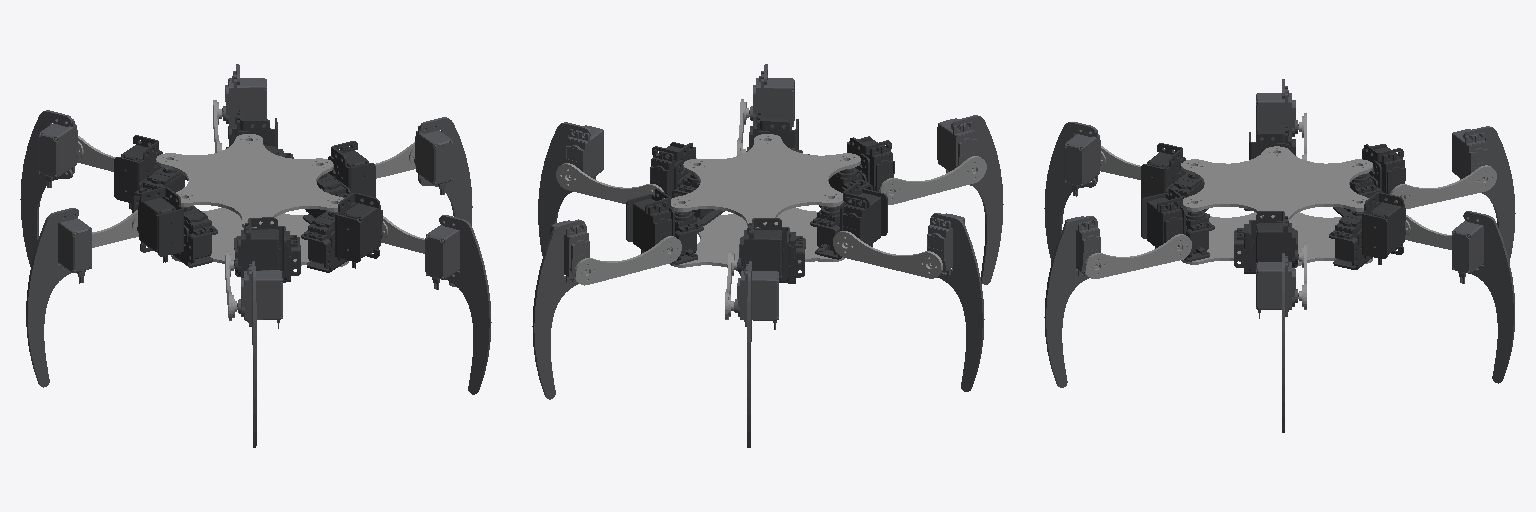
robot.urdf — spider:
<?xml version="1.0" encoding="utf-8"?>
<!-- This URDF was automatically created by SolidWorks to URDF Exporter! Originally created by [author] ([email redacted]) 
     Commit Version: 1.5.1-0-g916b5db  Build Version: 1.5.7152.31018
     For more information, please see http://wiki.ros.org/sw_urdf_exporter -->
<robot
  name="spider">
  <link
    name="main_body">
    <inertial>
      <origin
        xyz="1.1976E-18 2.9807E-18 -0.024667"
        rpy="0 0 0" />
      <mass
        value="0.27159" />
      <inertia
        ixx="0.00047029"
        ixy="8.691E-20"
        ixz="9.2467E-22"
        iyy="0.00030006"
        iyz="2.8702E-20"
        izz="0.00076993" />
    </inertial>
    <visual>
      <origin
        xyz="0 0 0"
        rpy="0 0 0" />
      <geometry>
        <mesh
          filename="package://spider/meshes/main_body.STL" />
      </geometry>
      <material
        name="">
        <color
          rgba="0.5898 0.59177 0.59294 1" />
      </material>
    </visual>
    <collision>
      <origin
        xyz="0 0 0"
        rpy="0 0 0" />
      <geometry>
        <mesh
          filename="package://spider/meshes/main_body.STL" />
      </geometry>
    </collision>
  </link>
  <link
    name="L1_coxa">
    <inertial>
      <origin
        xyz="-0.01487 -0.0067728 -0.019757"
        rpy="0 0 0" />
      <mass
        value="0.14547" />
      <inertia
        ixx="4.1777E-05"
        ixy="-5.3557E-07"
        ixz="5.3584E-07"
        iyy="2.672E-05"
        iyz="-4.9151E-13"
        izz="2.672E-05" />
    </inertial>
    <visual>
      <origin
        xyz="0 0 0"
        rpy="0 0 0" />
      <geometry>
        <mesh
          filename="package://spider/meshes/L1_coxa.STL" />
      </geometry>
      <material
        name="">
        <color
          rgba="0.279216 0.281961 0.293333 1" />
      </material>
    </visual>
    <collision>
      <origin
        xyz="0 0 0"
        rpy="0 0 0" />
      <geometry>
        <mesh
          filename="package://spider/meshes/L1_coxa.STL" />
      </geometry>
    </collision>
  </link>
  <joint
    name="L1_joint1"
    type="revolute">
    <origin
      xyz="-0.04 0.0750000000000001 -0.002"
      rpy="0 0 -1.08083900054117" />
    <parent
      link="main_body" />
    <child
      link="L1_coxa" />
    <axis
      xyz="0 0 -1" />
    <limit
      lower="0"
      upper="0"
      effort="0"
      velocity="0" />
  </joint>
  <link
    name="L1_femur">
    <inertial>
      <origin
        xyz="0.0020723 -0.0425 -0.0029625"
        rpy="0 0 0" />
      <mass
        value="0.018954" />
      <inertia
        ixx="1.6508E-05"
        ixy="-4.0626E-21"
        ixz="-7.4283E-23"
        iyy="6.9019E-07"
        iyz="3.5999E-21"
        izz="1.7168E-05" />
    </inertial>
    <visual>
      <origin
        xyz="0 0 0"
        rpy="0 0 0" />
      <geometry>
        <mesh
          filename="package://spider/meshes/L1_femur.STL" />
      </geometry>
      <material
        name="">
        <color
          rgba="0.589804 0.592157 0.592941 1" />
      </material>
    </visual>
    <collision>
      <origin
        xyz="0 0 0"
        rpy="0 0 0" />
      <geometry>
        <mesh
          filename="package://spider/meshes/L1_femur.STL" />
      </geometry>
    </collision>
  </link>
  <joint
    name="L1_joint2"
    type="revolute">
    <origin
      xyz="-0.0297399999999999 0.0226716679866615 -0.0231716679866614"
      rpy="1.5707963267949 1.5707963267949 0" />
    <parent
      link="L1_coxa" />
    <child
      link="L1_femur" />
    <axis
      xyz="0 0 1" />
    <limit
      lower="0"
      upper="0"
      effort="0"
      velocity="0" />
  </joint>
  <link
    name="L1_tibia">
    <inertial>
      <origin
        xyz="0.0033475 0.0079586 -0.02165"
        rpy="0 0 0" />
      <mass
        value="0.083453" />
      <inertia
        ixx="1.127E-05"
        ixy="-6.8552E-06"
        ixz="-1.5501E-07"
        iyy="6.3949E-05"
        iyz="-1.3189E-10"
        izz="6.307E-05" />
    </inertial>
    <visual>
      <origin
        xyz="0 0 0"
        rpy="0 0 0" />
      <geometry>
        <mesh
          filename="package://spider/meshes/L1_tibia.STL" />
      </geometry>
      <material
        name="">
        <color
          rgba="0.379216 0.381961 0.393333 1" />
      </material>
    </visual>
    <collision>
      <origin
        xyz="0 0 0"
        rpy="0 0 0" />
      <geometry>
        <mesh
          filename="package://spider/meshes/L1_tibia.STL" />
      </geometry>
    </collision>
  </link>
  <joint
    name="L1_joint3"
    type="revolute">
    <origin
      xyz="0 -0.085 0"
      rpy="3.14159265358979 0 0" />
    <parent
      link="L1_femur" />
    <child
      link="L1_tibia" />
    <axis
      xyz="0 0 -1" />
    <limit
      lower="0"
      upper="0"
      effort="0"
      velocity="0" />
  </joint>
  <link
    name="L2_coxa">
    <inertial>
      <origin
        xyz="-0.01487 -0.0067728 -0.019757"
        rpy="0 0 0" />
      <mass
        value="0.14547" />
      <inertia
        ixx="4.1777E-05"
        ixy="-5.3557E-07"
        ixz="5.3584E-07"
        iyy="2.672E-05"
        iyz="1.0353E-20"
        izz="2.672E-05" />
    </inertial>
    <visual>
      <origin
        xyz="0 0 0"
        rpy="0 0 0" />
      <geometry>
        <mesh
          filename="package://spider/meshes/L2_coxa.STL" />
      </geometry>
      <material
        name="">
        <color
          rgba="0.279216 0.281961 0.293333 1" />
      </material>
    </visual>
    <collision>
      <origin
        xyz="0 0 0"
        rpy="0 0 0" />
      <geometry>
        <mesh
          filename="package://spider/meshes/L2_coxa.STL" />
      </geometry>
    </collision>
  </link>
  <joint
    name="L2_joint1"
    type="revolute">
    <origin
      xyz="-0.0678388218141501 0 -0.002"
      rpy="0 0 0" />
    <parent
      link="main_body" />
    <child
      link="L2_coxa" />
    <axis
      xyz="0 0 -1" />
    <limit
      lower="0"
      upper="0"
      effort="0"
      velocity="0" />
  </joint>
  <link
    name="L2_femur">
    <inertial>
      <origin
        xyz="0.0020723 -0.0425 -0.0029625"
        rpy="0 0 0" />
      <mass
        value="0.018954" />
      <inertia
        ixx="1.6508E-05"
        ixy="-2.0583E-21"
        ixz="5.7808E-23"
        iyy="6.9019E-07"
        iyz="-4.072E-24"
        izz="1.7168E-05" />
    </inertial>
    <visual>
      <origin
        xyz="0 0 0"
        rpy="0 0 0" />
      <geometry>
        <mesh
          filename="package://spider/meshes/L2_femur.STL" />
      </geometry>
      <material
        name="">
        <color
          rgba="0.589804 0.592157 0.592941 1" />
      </material>
    </visual>
    <collision>
      <origin
        xyz="0 0 0"
        rpy="0 0 0" />
      <geometry>
        <mesh
          filename="package://spider/meshes/L2_femur.STL" />
      </geometry>
    </collision>
  </link>
  <joint
    name="L2_joint2"
    type="revolute">
    <origin
      xyz="-0.02974 0.0226716679866614 -0.0231716679866613"
      rpy="1.5707963267949 1.5707963267949 0" />
    <parent
      link="L2_coxa" />
    <child
      link="L2_femur" />
    <axis
      xyz="0 0 1" />
    <limit
      lower="0"
      upper="0"
      effort="0"
      velocity="0" />
  </joint>
  <link
    name="L2_tibia">
    <inertial>
      <origin
        xyz="0.0033475 0.0079586 -0.02165"
        rpy="0 0 0" />
      <mass
        value="0.083453" />
      <inertia
        ixx="1.127E-05"
        ixy="-6.8552E-06"
        ixz="-1.5501E-07"
        iyy="6.3949E-05"
        iyz="-1.3191E-10"
        izz="6.307E-05" />
    </inertial>
    <visual>
      <origin
        xyz="0 0 0"
        rpy="0 0 0" />
      <geometry>
        <mesh
          filename="package://spider/meshes/L2_tibia.STL" />
      </geometry>
      <material
        name="">
        <color
          rgba="0.379216 0.381961 0.393333 1" />
      </material>
    </visual>
    <collision>
      <origin
        xyz="0 0 0"
        rpy="0 0 0" />
      <geometry>
        <mesh
          filename="package://spider/meshes/L2_tibia.STL" />
      </geometry>
    </collision>
  </link>
  <joint
    name="L2_joint3"
    type="revolute">
    <origin
      xyz="0 -0.085 0"
      rpy="3.14159265358979 0 0" />
    <parent
      link="L2_femur" />
    <child
      link="L2_tibia" />
    <axis
      xyz="0 0 -1" />
    <limit
      lower="0"
      upper="0"
      effort="0"
      velocity="0" />
  </joint>
  <link
    name="L3_coxa">
    <inertial>
      <origin
        xyz="-0.01487 -0.0067728 -0.019757"
        rpy="0 0 0" />
      <mass
        value="0.14547" />
      <inertia
        ixx="4.1777E-05"
        ixy="-5.3557E-07"
        ixz="5.3584E-07"
        iyy="2.672E-05"
        iyz="-4.5427E-13"
        izz="2.672E-05" />
    </inertial>
    <visual>
      <origin
        xyz="0 0 0"
        rpy="0 0 0" />
      <geometry>
        <mesh
          filename="package://spider/meshes/L3_coxa.STL" />
      </geometry>
      <material
        name="">
        <color
          rgba="0.279216 0.281961 0.293333 1" />
      </material>
    </visual>
    <collision>
      <origin
        xyz="0 0 0"
        rpy="0 0 0" />
      <geometry>
        <mesh
          filename="package://spider/meshes/L3_coxa.STL" />
      </geometry>
    </collision>
  </link>
  <joint
    name="L3_joint1"
    type="revolute">
    <origin
      xyz="-0.04 -0.075 -0.00199999999999999"
      rpy="0 0 1.08083900054117" />
    <parent
      link="main_body" />
    <child
      link="L3_coxa" />
    <axis
      xyz="0 0 -1" />
    <limit
      lower="0"
      upper="0"
      effort="0"
      velocity="0" />
  </joint>
  <link
    name="L3_femur">
    <inertial>
      <origin
        xyz="0.0020723 -0.0425 -0.0029625"
        rpy="0 0 0" />
      <mass
        value="0.018954" />
      <inertia
        ixx="1.6508E-05"
        ixy="-3.6245E-21"
        ixz="2.7205E-23"
        iyy="6.9019E-07"
        iyz="-3.5999E-21"
        izz="1.7168E-05" />
    </inertial>
    <visual>
      <origin
        xyz="0 0 0"
        rpy="0 0 0" />
      <geometry>
        <mesh
          filename="package://spider/meshes/L3_femur.STL" />
      </geometry>
      <material
        name="">
        <color
          rgba="0.589804 0.592157 0.592941 1" />
      </material>
    </visual>
    <collision>
      <origin
        xyz="0 0 0"
        rpy="0 0 0" />
      <geometry>
        <mesh
          filename="package://spider/meshes/L3_femur.STL" />
      </geometry>
    </collision>
  </link>
  <joint
    name="L3_joint2"
    type="revolute">
    <origin
      xyz="-0.0297400000000001 0.0226716679866626 -0.0231716679866611"
      rpy="1.5707963267949 1.5707963267949 0" />
    <parent
      link="L3_coxa" />
    <child
      link="L3_femur" />
    <axis
      xyz="0 0 1" />
    <limit
      lower="0"
      upper="0"
      effort="0"
      velocity="0" />
  </joint>
  <link
    name="L3_tibia">
    <inertial>
      <origin
        xyz="0.0033475 0.0079586 -0.02165"
        rpy="0 0 0" />
      <mass
        value="0.083453" />
      <inertia
        ixx="1.127E-05"
        ixy="-6.8552E-06"
        ixz="-1.5501E-07"
        iyy="6.3949E-05"
        iyz="-1.3193E-10"
        izz="6.307E-05" />
    </inertial>
    <visual>
      <origin
        xyz="0 0 0"
        rpy="0 0 0" />
      <geometry>
        <mesh
          filename="package://spider/meshes/L3_tibia.STL" />
      </geometry>
      <material
        name="">
        <color
          rgba="0.379216 0.381961 0.393333 1" />
      </material>
    </visual>
    <collision>
      <origin
        xyz="0 0 0"
        rpy="0 0 0" />
      <geometry>
        <mesh
          filename="package://spider/meshes/L3_tibia.STL" />
      </geometry>
    </collision>
  </link>
  <joint
    name="L3_joint3"
    type="revolute">
    <origin
      xyz="0 -0.085 0"
      rpy="3.14159265358979 0 0" />
    <parent
      link="L3_femur" />
    <child
      link="L3_tibia" />
    <axis
      xyz="0 0 -1" />
    <limit
      lower="0"
      upper="0"
      effort="0"
      velocity="0" />
  </joint>
  <link
    name="R1_coxa">
    <inertial>
      <origin
        xyz="-0.01487 0.0067728 -0.019757"
        rpy="0 0 0" />
      <mass
        value="0.14547" />
      <inertia
        ixx="4.1777E-05"
        ixy="5.3574E-07"
        ixz="5.3547E-07"
        iyy="2.672E-05"
        iyz="4.5427E-13"
        izz="2.672E-05" />
    </inertial>
    <visual>
      <origin
        xyz="0 0 0"
        rpy="0 0 0" />
      <geometry>
        <mesh
          filename="package://spider/meshes/R1_coxa.STL" />
      </geometry>
      <material
        name="">
        <color
          rgba="0.279216 0.281961 0.293333 1" />
      </material>
    </visual>
    <collision>
      <origin
        xyz="0 0 0"
        rpy="0 0 0" />
      <geometry>
        <mesh
          filename="package://spider/meshes/R1_coxa.STL" />
      </geometry>
    </collision>
  </link>
  <joint
    name="R1_joint1"
    type="revolute">
    <origin
      xyz="0.04 0.0750000000000001 -0.00200000000000001"
      rpy="0 0 -2.06075365304863" />
    <parent
      link="main_body" />
    <child
      link="R1_coxa" />
    <axis
      xyz="0 0 -1" />
    <limit
      lower="0"
      upper="0"
      effort="0"
      velocity="0" />
  </joint>
  <link
    name="R1_femur">
    <inertial>
      <origin
        xyz="0.0020723 -0.0425 0.0029625"
        rpy="0 0 0" />
      <mass
        value="0.018954" />
      <inertia
        ixx="1.6508E-05"
        ixy="2.5911E-21"
        ixz="8.3557E-23"
        iyy="6.9019E-07"
        iyz="-4.6322E-21"
        izz="1.7168E-05" />
    </inertial>
    <visual>
      <origin
        xyz="0 0 0"
        rpy="0 0 0" />
      <geometry>
        <mesh
          filename="package://spider/meshes/R1_femur.STL" />
      </geometry>
      <material
        name="">
        <color
          rgba="0.589804 0.592157 0.592941 1" />
      </material>
    </visual>
    <collision>
      <origin
        xyz="0 0 0"
        rpy="0 0 0" />
      <geometry>
        <mesh
          filename="package://spider/meshes/R1_femur.STL" />
      </geometry>
    </collision>
  </link>
  <joint
    name="R1_joint2"
    type="revolute">
    <origin
      xyz="-0.02974 -0.0226716679866614 -0.0231716679866613"
      rpy="1.5707963267949 1.5707963267949 0" />
    <parent
      link="R1_coxa" />
    <child
      link="R1_femur" />
    <axis
      xyz="0 0 -1" />
    <limit
      lower="0"
      upper="0"
      effort="0"
      velocity="0" />
  </joint>
  <link
    name="R1_tibia">
    <inertial>
      <origin
        xyz="0.0033475 -0.0079584 -0.02165"
        rpy="0 0 0" />
      <mass
        value="0.083453" />
      <inertia
        ixx="1.127E-05"
        ixy="6.8553E-06"
        ixz="-1.5497E-07"
        iyy="6.3949E-05"
        iyz="-1.3193E-10"
        izz="6.307E-05" />
    </inertial>
    <visual>
      <origin
        xyz="0 0 0"
        rpy="0 0 0" />
      <geometry>
        <mesh
          filename="package://spider/meshes/R1_tibia.STL" />
      </geometry>
      <material
        name="">
        <color
          rgba="0.379216 0.381961 0.393333 1" />
      </material>
    </visual>
    <collision>
      <origin
        xyz="0 0 0"
        rpy="0 0 0" />
      <geometry>
        <mesh
          filename="package://spider/meshes/R1_tibia.STL" />
      </geometry>
    </collision>
  </link>
  <joint
    name="R1_joint3"
    type="revolute">
    <origin
      xyz="0 -0.085 0"
      rpy="0 0 0" />
    <parent
      link="R1_femur" />
    <child
      link="R1_tibia" />
    <axis
      xyz="0 0 -1" />
    <limit
      lower="0"
      upper="0"
      effort="0"
      velocity="0" />
  </joint>
  <link
    name="R2_coxa">
    <inertial>
      <origin
        xyz="-0.01487 0.0067728 -0.019757"
        rpy="0 0 0" />
      <mass
        value="0.14547" />
      <inertia
        ixx="4.1777E-05"
        ixy="5.3574E-07"
        ixz="5.3547E-07"
        iyy="2.672E-05"
        iyz="-7.6331E-21"
        izz="2.672E-05" />
    </inertial>
    <visual>
      <origin
        xyz="0 0 0"
        rpy="0 0 0" />
      <geometry>
        <mesh
          filename="package://spider/meshes/R2_coxa.STL" />
      </geometry>
      <material
        name="">
        <color
          rgba="0.279216 0.281961 0.293333 1" />
      </material>
    </visual>
    <collision>
      <origin
        xyz="0 0 0"
        rpy="0 0 0" />
      <geometry>
        <mesh
          filename="package://spider/meshes/R2_coxa.STL" />
      </geometry>
    </collision>
  </link>
  <joint
    name="R2_joint1"
    type="revolute">
    <origin
      xyz="0.0678388218141501 0 -0.00200000000000001"
      rpy="0 0 3.14159265358979" />
    <parent
      link="main_body" />
    <child
      link="R2_coxa" />
    <axis
      xyz="0 0 -1" />
    <limit
      lower="0"
      upper="0"
      effort="0"
      velocity="0" />
  </joint>
  <link
    name="R2_femur">
    <inertial>
      <origin
        xyz="0.0020723 -0.0425 0.0029625"
        rpy="0 0 0" />
      <mass
        value="0.018954" />
      <inertia
        ixx="1.6508E-05"
        ixy="5.3744E-22"
        ixz="4.0771E-23"
        iyy="6.9019E-07"
        iyz="-1.6472E-22"
        izz="1.7168E-05" />
    </inertial>
    <visual>
      <origin
        xyz="0 0 0"
        rpy="0 0 0" />
      <geometry>
        <mesh
          filename="package://spider/meshes/R2_femur.STL" />
      </geometry>
      <material
        name="">
        <color
          rgba="0.589804 0.592157 0.592941 1" />
      </material>
    </visual>
    <collision>
      <origin
        xyz="0 0 0"
        rpy="0 0 0" />
      <geometry>
        <mesh
          filename="package://spider/meshes/R2_femur.STL" />
      </geometry>
    </collision>
  </link>
  <joint
    name="R2_joint2"
    type="revolute">
    <origin
      xyz="-0.02974 -0.0226716679866615 -0.0231716679866613"
      rpy="1.5707963267949 1.5707963267949 0" />
    <parent
      link="R2_coxa" />
    <child
      link="R2_femur" />
    <axis
      xyz="0 0 -1" />
    <limit
      lower="0"
      upper="0"
      effort="0"
      velocity="0" />
  </joint>
  <link
    name="R2_tibia">
    <inertial>
      <origin
        xyz="0.0033475 -0.0079584 -0.02165"
        rpy="0 0 0" />
      <mass
        value="0.083453" />
      <inertia
        ixx="1.127E-05"
        ixy="6.8553E-06"
        ixz="-1.5497E-07"
        iyy="6.3949E-05"
        iyz="-1.3191E-10"
        izz="6.307E-05" />
    </inertial>
    <visual>
      <origin
        xyz="0 0 0"
        rpy="0 0 0" />
      <geometry>
        <mesh
          filename="package://spider/meshes/R2_tibia.STL" />
      </geometry>
      <material
        name="">
        <color
          rgba="0.379216 0.381961 0.393333 1" />
      </material>
    </visual>
    <collision>
      <origin
        xyz="0 0 0"
        rpy="0 0 0" />
      <geometry>
        <mesh
          filename="package://spider/meshes/R2_tibia.STL" />
      </geometry>
    </collision>
  </link>
  <joint
    name="R2_joint3"
    type="revolute">
    <origin
      xyz="0 -0.085 0"
      rpy="0 0 0" />
    <parent
      link="R2_femur" />
    <child
      link="R2_tibia" />
    <axis
      xyz="0 0 -1" />
    <limit
      lower="0"
      upper="0"
      effort="0"
      velocity="0" />
  </joint>
  <link
    name="R3_coxa">
    <inertial>
      <origin
        xyz="-0.01487 0.0067728 -0.019757"
        rpy="0 0 0" />
      <mass
        value="0.14547" />
      <inertia
        ixx="4.1777E-05"
        ixy="5.3574E-07"
        ixz="5.3547E-07"
        iyy="2.672E-05"
        iyz="4.9151E-13"
        izz="2.672E-05" />
    </inertial>
    <visual>
      <origin
        xyz="0 0 0"
        rpy="0 0 0" />
      <geometry>
        <mesh
          filename="package://spider/meshes/R3_coxa.STL" />
      </geometry>
      <material
        name="">
        <color
          rgba="0.279216 0.281961 0.293333 1" />
      </material>
    </visual>
    <collision>
      <origin
        xyz="0 0 0"
        rpy="0 0 0" />
      <geometry>
        <mesh
          filename="package://spider/meshes/R3_coxa.STL" />
      </geometry>
    </collision>
  </link>
  <joint
    name="R3_joint1"
    type="revolute">
    <origin
      xyz="0.04 -0.075 -0.002"
      rpy="0 0 2.06075365304862" />
    <parent
      link="main_body" />
    <child
      link="R3_coxa" />
    <axis
      xyz="0 0 -1" />
    <limit
      lower="0"
      upper="0"
      effort="0"
      velocity="0" />
  </joint>
  <link
    name="R3_femur">
    <inertial>
      <origin
        xyz="0.0020723 -0.0425 0.0029625"
        rpy="0 0 0" />
      <mass
        value="0.018954" />
      <inertia
        ixx="1.6508E-05"
        ixy="-2.1864E-21"
        ixz="4.2611E-23"
        iyy="6.9019E-07"
        iyz="7.9409E-23"
        izz="1.7168E-05" />
    </inertial>
    <visual>
      <origin
        xyz="0 0 0"
        rpy="0 0 0" />
      <geometry>
        <mesh
          filename="package://spider/meshes/R3_femur.STL" />
      </geometry>
      <material
        name="">
        <color
          rgba="0.589804 0.592157 0.592941 1" />
      </material>
    </visual>
    <collision>
      <origin
        xyz="0 0 0"
        rpy="0 0 0" />
      <geometry>
        <mesh
          filename="package://spider/meshes/R3_femur.STL" />
      </geometry>
    </collision>
  </link>
  <joint
    name="R3_joint2"
    type="revolute">
    <origin
      xyz="-0.02974 -0.0226716679866615 -0.0231716679866613"
      rpy="1.5707963267949 1.5707963267949 0" />
    <parent
      link="R3_coxa" />
    <child
      link="R3_femur" />
    <axis
      xyz="0 0 -1" />
    <limit
      lower="0"
      upper="0"
      effort="0"
      velocity="0" />
  </joint>
  <link
    name="R3_tibia">
    <inertial>
      <origin
        xyz="0.0033475 -0.0079584 -0.02165"
        rpy="0 0 0" />
      <mass
        value="0.083453" />
      <inertia
        ixx="1.127E-05"
        ixy="6.8553E-06"
        ixz="-1.5497E-07"
        iyy="6.3949E-05"
        iyz="-1.3189E-10"
        izz="6.307E-05" />
    </inertial>
    <visual>
      <origin
        xyz="0 0 0"
        rpy="0 0 0" />
      <geometry>
        <mesh
          filename="package://spider/meshes/R3_tibia.STL" />
      </geometry>
      <material
        name="">
        <color
          rgba="0.379216 0.381961 0.393333 1" />
      </material>
    </visual>
    <collision>
      <origin
        xyz="0 0 0"
        rpy="0 0 0" />
      <geometry>
        <mesh
          filename="package://spider/meshes/R3_tibia.STL" />
      </geometry>
    </collision>
  </link>
  <joint
    name="R3_joint3"
    type="revolute">
    <origin
      xyz="0 -0.085 0"
      rpy="0 0 0" />
    <parent
      link="R3_femur" />
    <child
      link="R3_tibia" />
    <axis
      xyz="0 0 -1" />
    <limit
      lower="0"
      upper="0"
      effort="0"
      velocity="0" />
  </joint>
</robot>

--- Render facts (derived) ---
3 views of the same robot in one strip: view 1: azimuth 30°, elevation 25°; view 2: azimuth 150°, elevation 25°; view 3: azimuth 270°, elevation 25° (orthographic).
Model spider with 19 links and 18 joints (18 revolute), rooted at main_body, posed all joints at 0.
Links seen in each view (by area): view 1: main_body, L2_tibia, R3_tibia, L1_tibia, R3_coxa, L2_coxa, R2_tibia, L3_coxa, L1_coxa, L3_tibia, R2_coxa, R1_tibia (+5 smaller); view 2: main_body, L2_tibia, R1_tibia, L3_tibia, R2_tibia, L2_coxa, R1_coxa, L1_coxa, L1_tibia, R2_coxa, L3_coxa, L2_femur (+5 smaller); view 3: main_body, R1_tibia, R3_tibia, L3_tibia, R1_coxa, L1_tibia, R3_coxa, R2_coxa, R2_tibia, L3_coxa, R3_femur, L1_coxa (+5 smaller).
Link boxes in pixels (bbox=[...]): main_body: bbox=[156, 134, 348, 266]; L2_tibia: bbox=[26, 208, 91, 387]; R3_tibia: bbox=[425, 215, 491, 394]; L1_tibia: bbox=[20, 110, 77, 266]; R3_coxa: bbox=[301, 193, 382, 272]; L2_coxa: bbox=[137, 187, 217, 267]; R2_tibia: bbox=[414, 117, 472, 286]; L3_coxa: bbox=[234, 217, 300, 282]; L1_coxa: bbox=[114, 135, 187, 212]; L3_tibia: bbox=[237, 261, 282, 447]; R2_coxa: bbox=[303, 141, 375, 223]; R1_tibia: bbox=[222, 64, 266, 125]; main_body: bbox=[670, 134, 860, 270]; L2_tibia: bbox=[927, 213, 984, 391]; R1_tibia: bbox=[532, 219, 589, 399]; L3_tibia: bbox=[937, 115, 1003, 284]; R2_tibia: bbox=[538, 122, 603, 255]; L2_coxa: bbox=[810, 183, 887, 259]; R1_coxa: bbox=[626, 189, 703, 264]; L1_coxa: bbox=[737, 218, 805, 283]; L1_tibia: bbox=[734, 261, 778, 447]; R2_coxa: bbox=[650, 142, 724, 225]; L3_coxa: bbox=[819, 136, 894, 207]; L2_femur: bbox=[833, 231, 942, 278]; main_body: bbox=[1181, 146, 1372, 268]; R1_tibia: bbox=[1452, 211, 1514, 383]; R3_tibia: bbox=[1044, 216, 1100, 387]; L3_tibia: bbox=[1044, 122, 1100, 262]; R1_coxa: bbox=[1329, 192, 1405, 269]; L1_tibia: bbox=[1452, 126, 1515, 262]; R3_coxa: bbox=[1141, 188, 1214, 261]; R2_coxa: bbox=[1234, 211, 1298, 273]; R2_tibia: bbox=[1256, 253, 1298, 432]; L3_coxa: bbox=[1141, 143, 1209, 217]; R3_femur: bbox=[1084, 234, 1191, 278]; L1_coxa: bbox=[1333, 144, 1405, 216].
Bounding box of the posed robot: 0.45 × 0.4288 × 0.1654 m (x, y, z).
19 mesh visuals loaded from 19 distinct referenced files (19 binary STL).